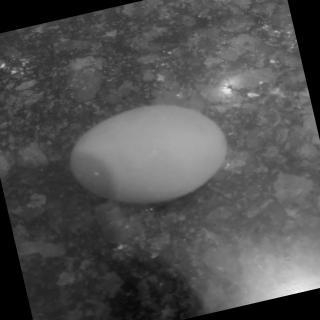Telur: (56, 85, 244, 224)
